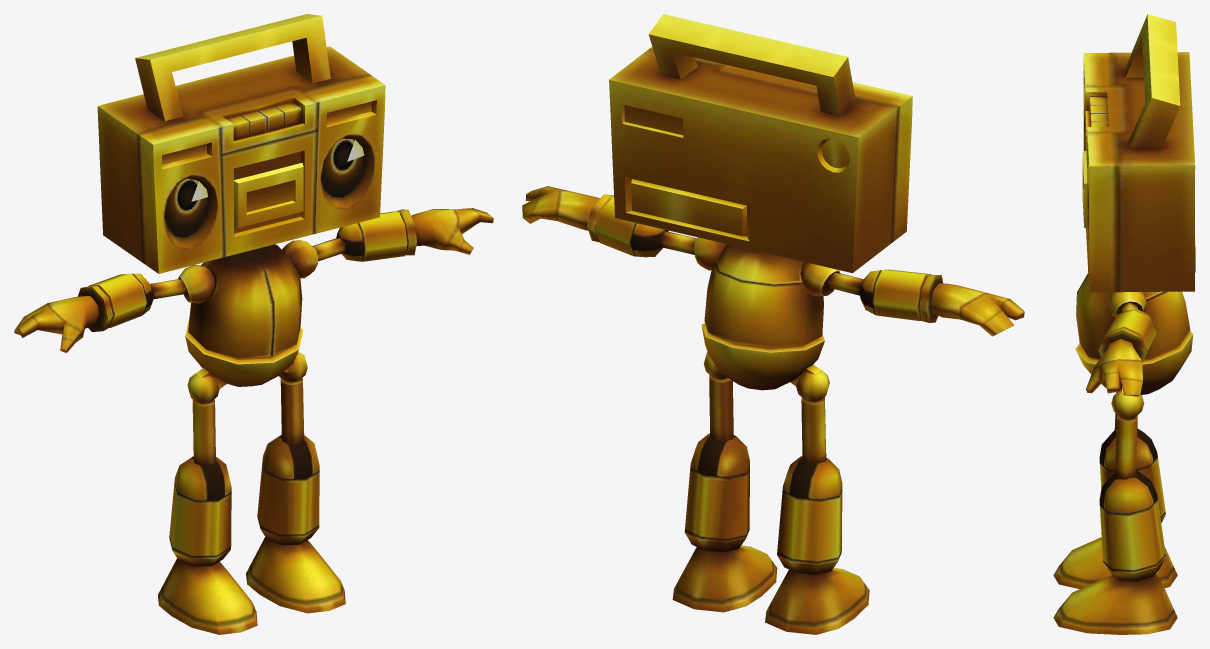
Rendered from subway_surfer_boombot.glb.
3 views of the same model, side by side, from view 1: azimuth 30°, elevation 25°; view 2: azimuth 150°, elevation 25°; view 3: azimuth 270°, elevation 25° (orthographic). The views are drawn at different scales.
Visible parts, largest first — view 1: Object_3, Object_2; view 2: Object_3, Object_2; view 3: Object_2, Object_3.
Part boxes in pixels (x1,y1,x2,y2): Object_3: (97,14,385,273); Object_2: (14,208,493,634); Object_3: (609,14,912,273); Object_2: (522,186,1024,634); Object_2: (1053,273,1193,634); Object_3: (1082,14,1195,292).
Bounding box in the file's own units: 9.89 × 10.99 × 2.62.
Materials: 2 (2 with a texture image).
